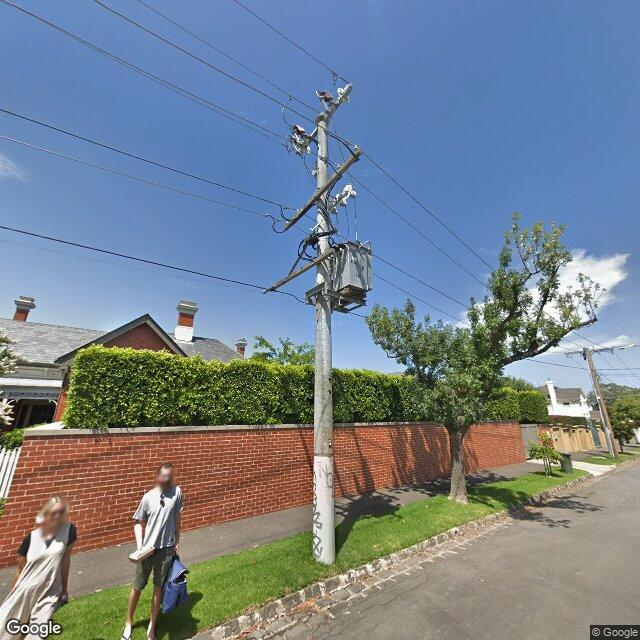HV-transmission: (286, 73, 358, 224)
crossarm: (284, 146, 362, 234), (273, 248, 336, 292), (308, 97, 344, 145), (562, 346, 614, 361)
timber-pole: (314, 113, 336, 564), (584, 348, 620, 457)
transformer: (330, 240, 375, 315)
